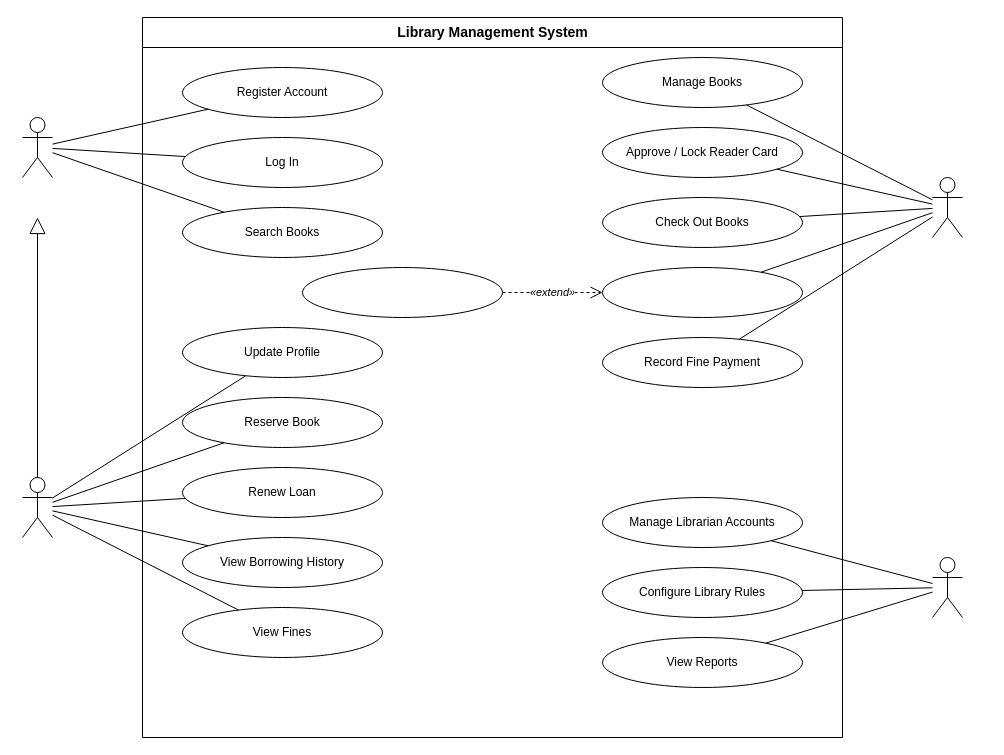
Some shapes in this 1004 by 755 pixel diagram are drawn without their labels. The box of each missing label's shape, as (x1, y1, x2, y2) in pixels:
Administrator: (932, 556, 962, 618)
Check In Books: (602, 266, 802, 318)
Guest: (22, 116, 52, 178)
Librarian: (932, 176, 962, 238)
Reader: (22, 476, 52, 538)
Record Violation: (302, 266, 502, 318)
